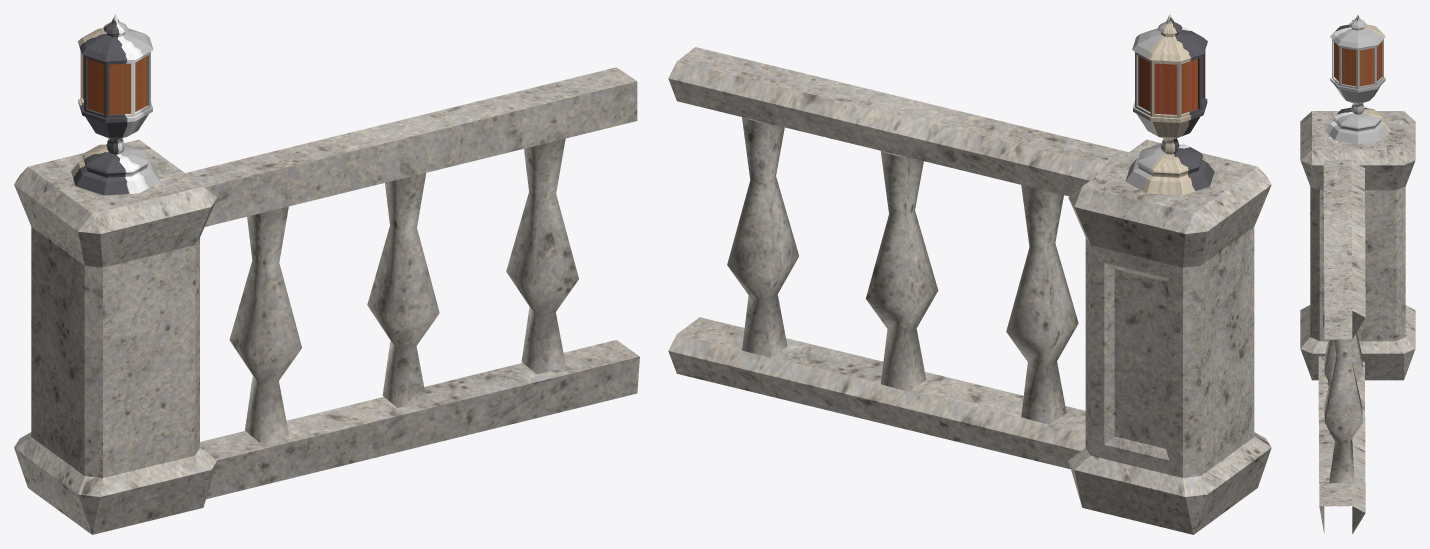
File: Spooky_Fence_Art.glb
3 views of the same model, side by side, from view 1: azimuth 30°, elevation 25°; view 2: azimuth 150°, elevation 25°; view 3: azimuth 270°, elevation 25° (orthographic). The views are drawn at different scales.
Visible parts, largest first — view 1: Spooky_Fence_Art; view 2: Spooky_Fence_Art; view 3: Spooky_Fence_Art.
Part boxes in pixels (x1,y1,x2,y2): Spooky_Fence_Art: (14, 14, 639, 534); Spooky_Fence_Art: (668, 14, 1271, 534); Spooky_Fence_Art: (1300, 14, 1415, 533).
Size of the model in its own units: 1.47 by 1.19 by 0.359.
3 materials, 3 textured.
